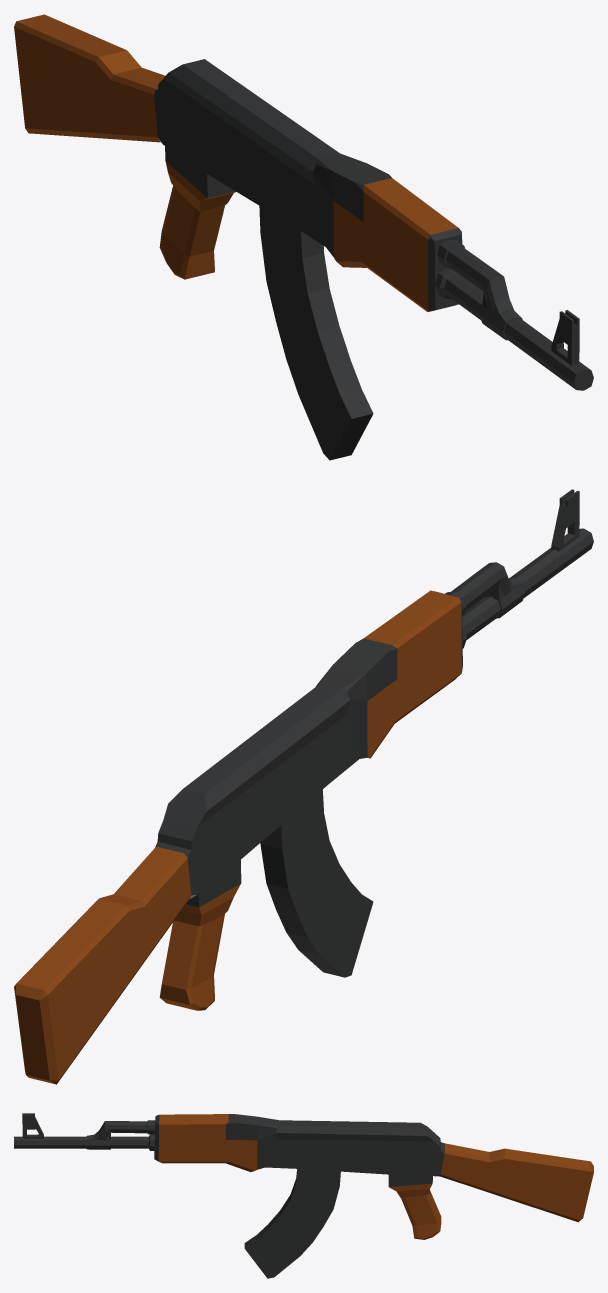
3 views of the same model, one above another, from view 1: azimuth 30°, elevation 25°; view 2: azimuth 150°, elevation 25°; view 3: azimuth 270°, elevation 25° (orthographic). The views are drawn at different scales.
Parts seen in each view (by area): view 1: Cube; view 2: Cube; view 3: Cube.
Part boxes in pixels (x1=…): Cube: x1=14, y1=14, x2=593, y2=460; Cube: x1=14, y1=489, x2=593, y2=1084; Cube: x1=14, y1=1113, x2=593, y2=1278.
Size of the model in its own units: 32.98 by 261 by 848.
